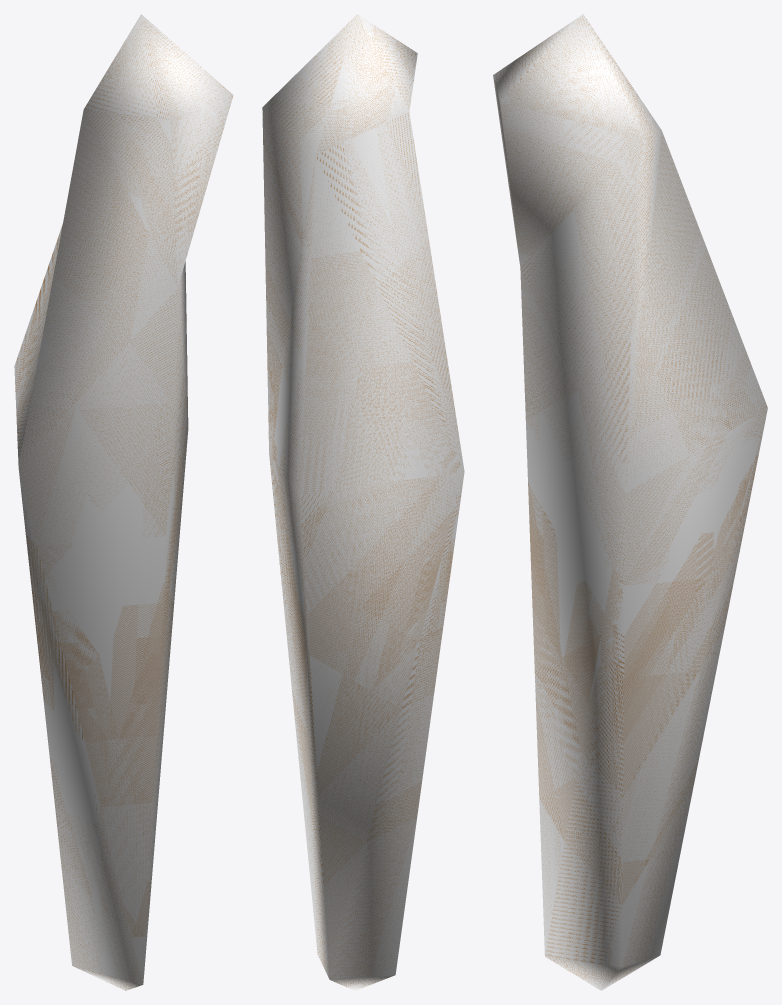
Rendered from fRCalf.dae.
The picture shows the model from 3 angles, left to right: view 1: azimuth 30°, elevation 25°; view 2: azimuth 150°, elevation 25°; view 3: azimuth 270°, elevation 25°; orthographic projection.
Parts seen in each view (by area): view 1: group_2; view 2: group_2; view 3: group_2.
Part boxes in pixels (bbox=[...]): group_2: bbox=[14, 14, 233, 990]; group_2: bbox=[262, 14, 464, 990]; group_2: bbox=[493, 14, 767, 990].
Size of the model in its own units: 15.19 by 19.65 by 77.31.
